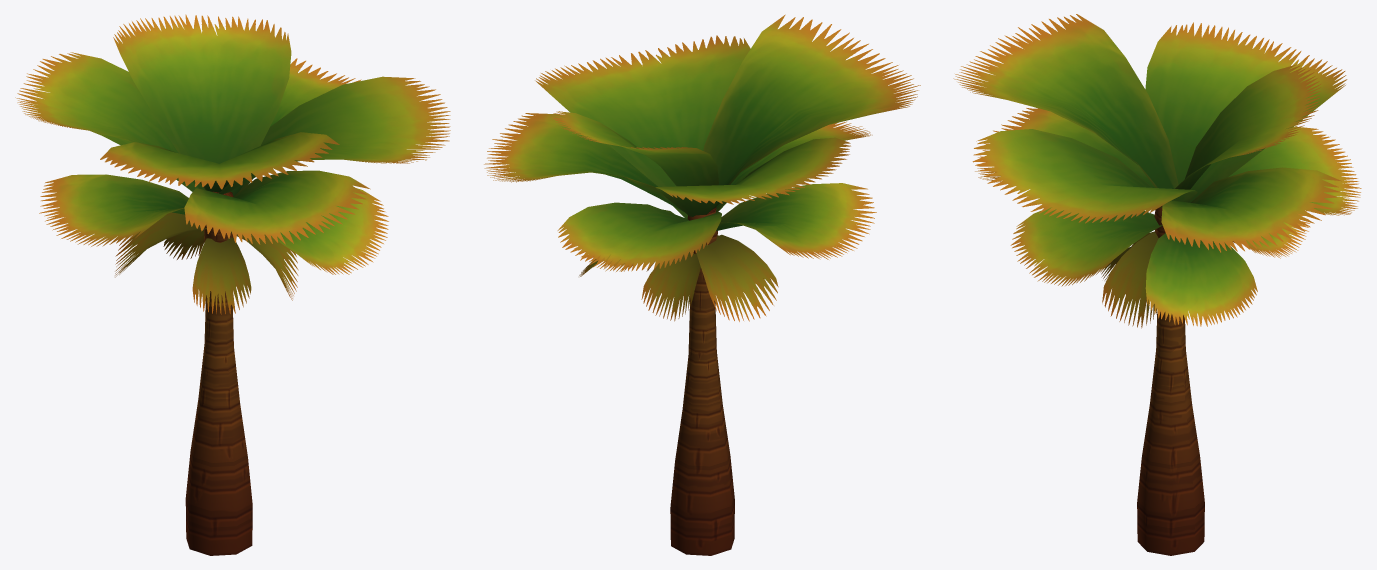
File: BigTree02.fbx
The picture shows the model from 3 angles, left to right: view 1: azimuth 30°, elevation 25°; view 2: azimuth 150°, elevation 25°; view 3: azimuth 270°, elevation 25°; orthographic projection. The views are drawn at different scales.
Parts seen in each view (by area): view 1: BigTree02; view 2: BigTree02; view 3: BigTree02.
Part boxes in pixels (x1,y1,x2,y2): BigTree02: (15, 14, 450, 555); BigTree02: (484, 14, 920, 555); BigTree02: (953, 14, 1361, 555).
Size of the model in its own units: 22.86 by 28.36 by 22.98.
Materials: 1 (1 with a texture image).
